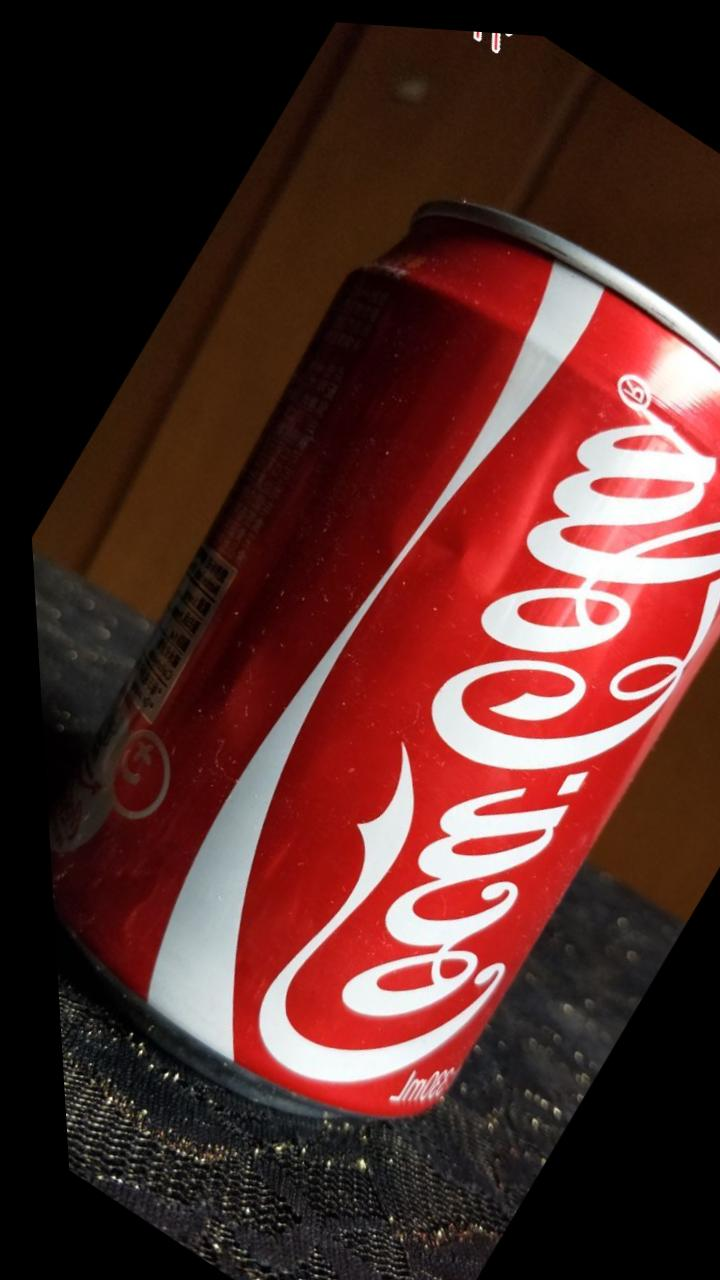metal: (57, 205, 719, 1115)
